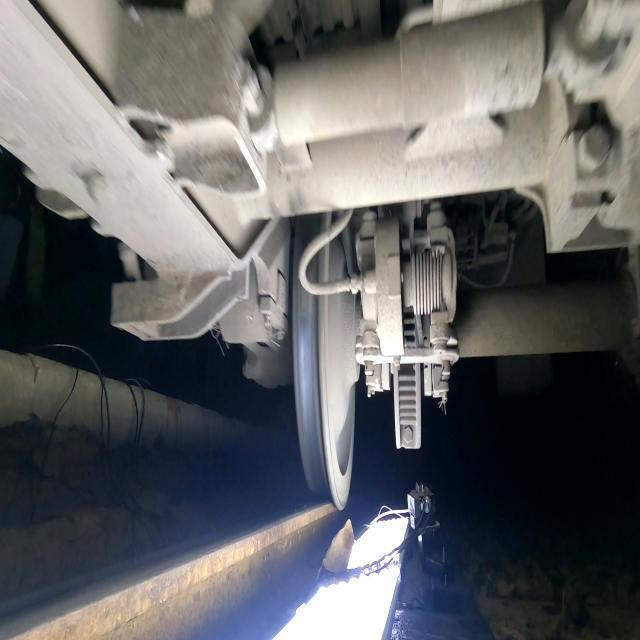Shelling: (299, 282, 310, 314)
Wheel: (292, 216, 359, 509)
